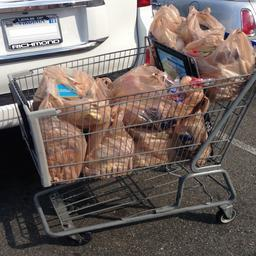plastic: (20, 5, 256, 187)
